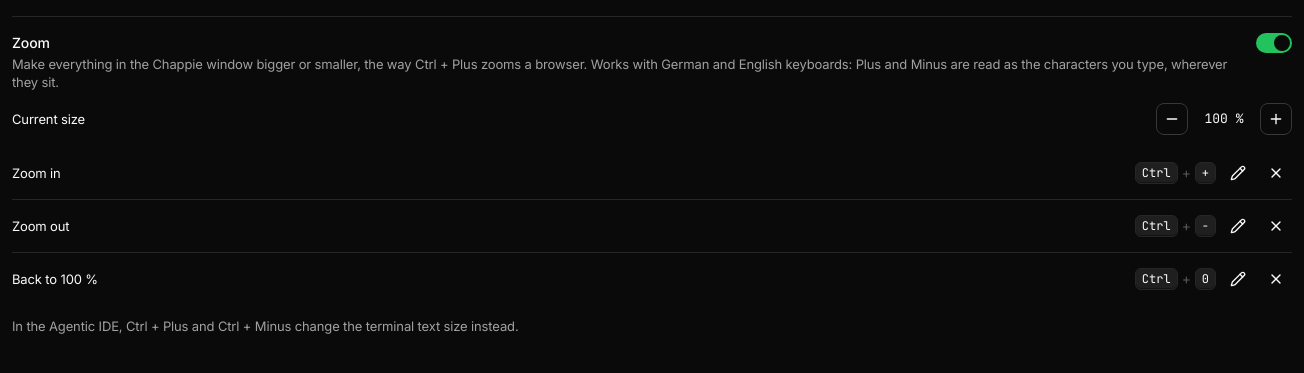
Test: AppZoomKeybinds › refuses a chord another step uses, and keeps the old one
Click the button with test id "app-zoom-record-in". click: (1238, 173)
box: [1222,157,1254,189]
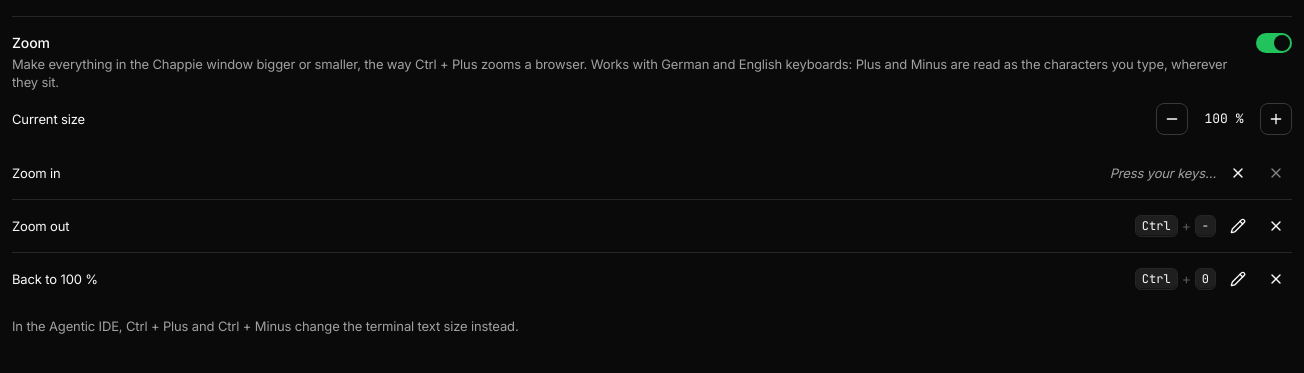
Press -
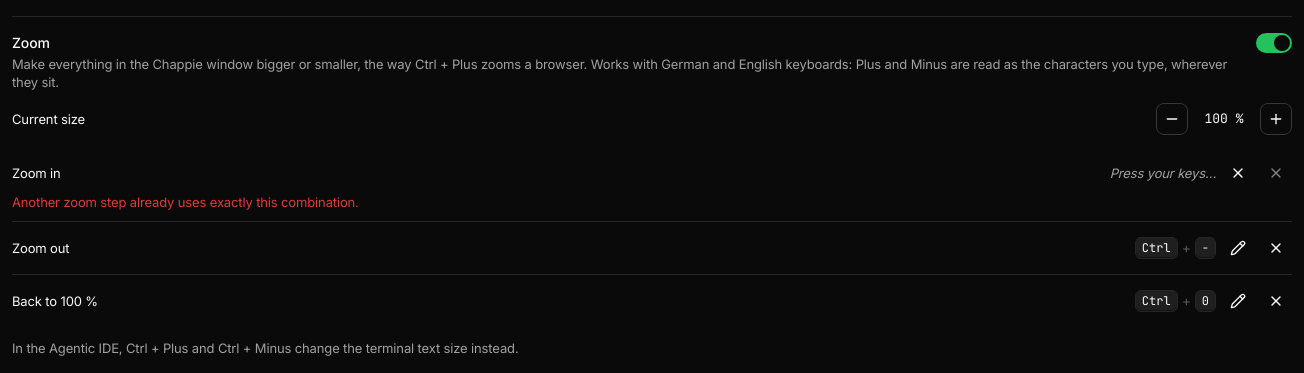
Check: the message shows "zoom step", box [12,194,359,210]
